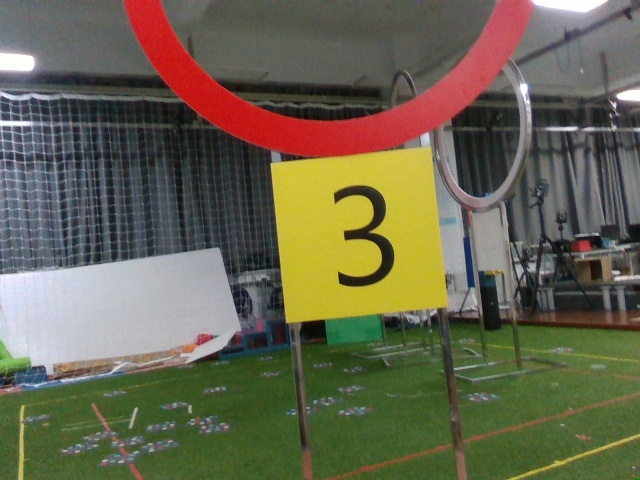target: (278, 158, 429, 312)
